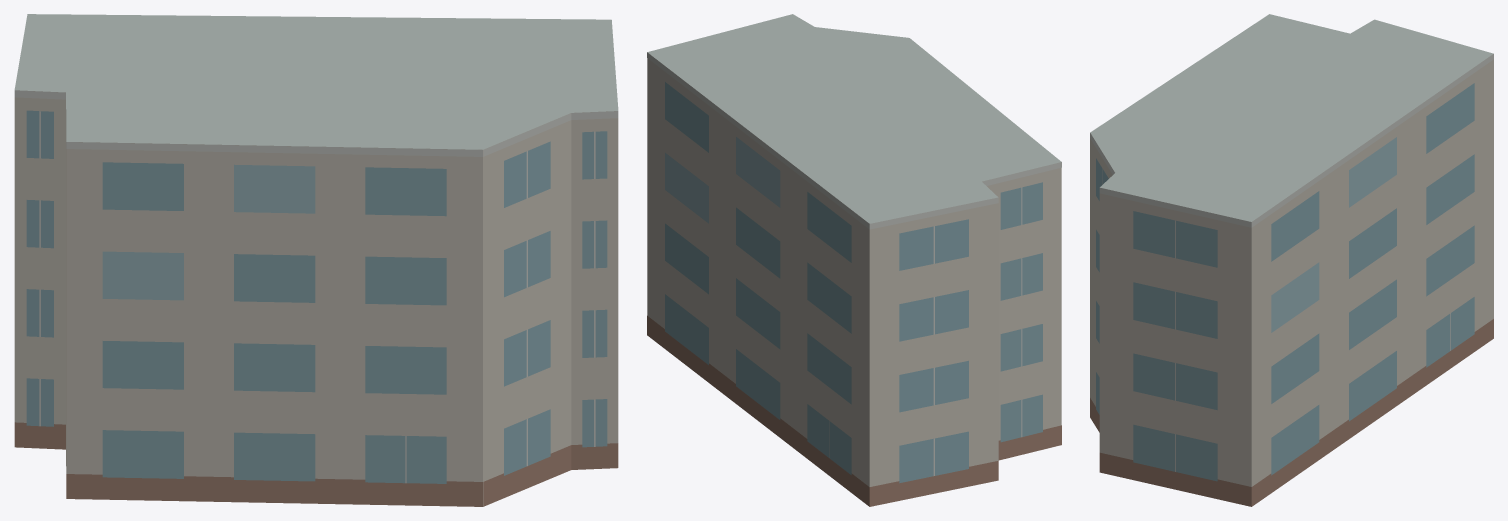
Rendered from survey-upis-32823232.glb.
3 renders of one model, left to right at view 1: azimuth 30°, elevation 25°; view 2: azimuth 150°, elevation 25°; view 3: azimuth 270°, elevation 25°, orthographic. The views are drawn at different scales.
Parts seen in each view (by area): view 1: survey-upis-32823232.tmp; view 2: survey-upis-32823232.tmp; view 3: survey-upis-32823232.tmp.
Boxes of the visible parts, box(x1,y1,x2,y2) form: survey-upis-32823232.tmp: box(14, 14, 618, 506); survey-upis-32823232.tmp: box(647, 14, 1061, 506); survey-upis-32823232.tmp: box(1090, 14, 1493, 506).
Bounding box in the file's own units: 18.96 × 12.1 × 15.55.
